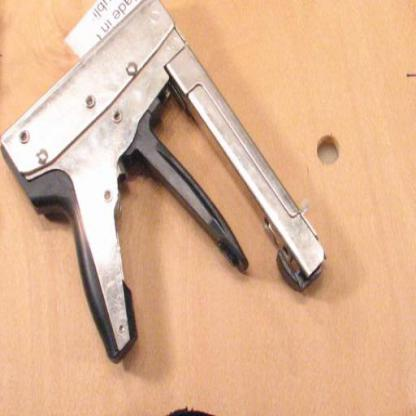gun: (0, 0, 328, 359)
